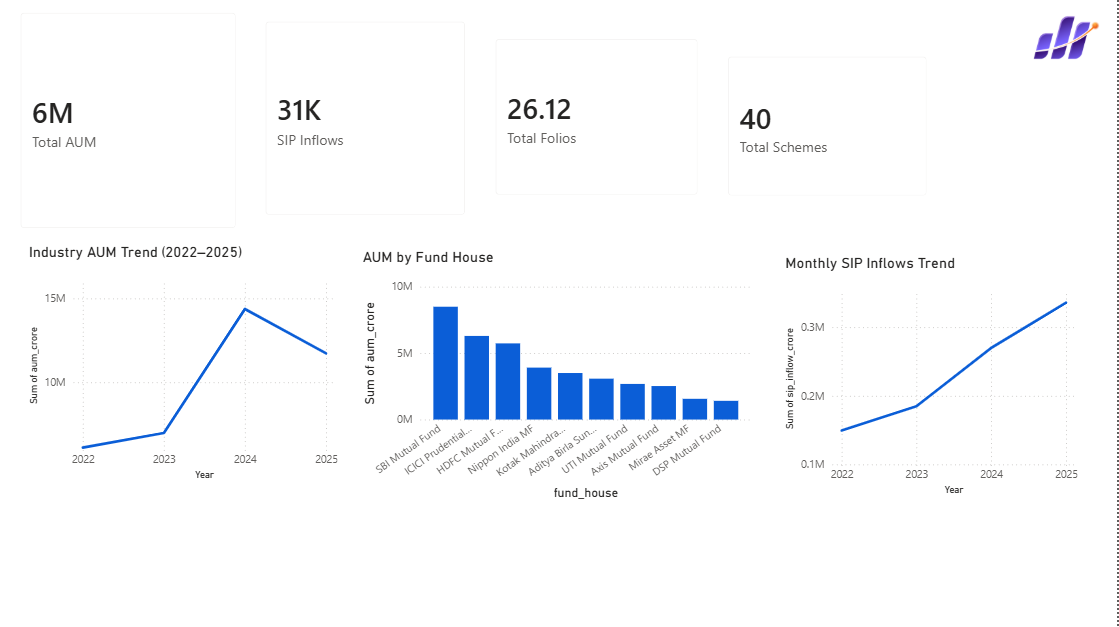

The dashboard page shown, as its layout file describes it:
{"tool":"powerbi","page":{"name":"Industry Overview","canvas":[1280,720],"ordinal":0},"visuals":[{"type":"cardVisual","fields":{"Data":["01_fund_master.Total AUM"]},"box":[10,0,280,280],"z":0},{"type":"cardVisual","fields":{"Data":["01_fund_master.SIP Inflows"]},"box":[289.8,9.8,262.9,255.6],"z":1000},{"type":"cardVisual","fields":{"Data":["01_fund_master.Total Folios"]},"box":[552.7,30.6,265.4,212.8],"z":2000},{"type":"cardVisual","fields":{"Data":["01_fund_master.Total Schemes"]},"box":[818.2,50,261.8,193.6],"z":3000},{"type":"lineChart","title":"Industry AUM Trend (2022–2025)","fields":{"Category":["03_aum_by_fund_house.date.Variation.Date Hierarchy.Year","03_aum_by_fund_house.date.Variation.Date Hierarchy.Quarter","03_aum_by_fund_house.date.Variation.Date Hierarchy.Month","03_aum_by_fund_house.date.Variation.Date Hierarchy.Day"],"Y":["Sum(03_aum_by_fund_house.aum_crore)"]},"box":[31.4,280,362.9,275.7],"z":4000},{"type":"clusteredColumnChart","title":"AUM by Fund House","fields":{"Y":["Sum(03_aum_by_fund_house.aum_crore)"],"Category":["03_aum_by_fund_house.fund_house"]},"box":[412.9,285.7,454.3,292.9],"z":5000},{"type":"lineChart","title":"Monthly SIP Inflows Trend","fields":{"Category":["04_monthly_sip_inflows.month.Variation.Date Hierarchy.Year","04_monthly_sip_inflows.month.Variation.Date Hierarchy.Quarter","04_monthly_sip_inflows.month.Variation.Date Hierarchy.Month","04_monthly_sip_inflows.month.Variation.Date Hierarchy.Day"],"Y":["Sum(04_monthly_sip_inflows.sip_inflow_crore)"]},"box":[895.7,292.9,344.3,280],"z":6000},{"type":"image","box":[1158.6,0,122.9,90],"z":6001}]}

Visuals, with their boxes in screenshot pixels (x1, y1, x2, y2), scaled from the page's 1280x720 canvas onto the 1119x627 screenshot:
cardVisual - 01_fund_master.Total AUM: detection(9, 0, 254, 244)
cardVisual - 01_fund_master.SIP Inflows: detection(253, 9, 483, 231)
cardVisual - 01_fund_master.Total Folios: detection(483, 27, 715, 212)
cardVisual - 01_fund_master.Total Schemes: detection(715, 44, 944, 212)
"Industry AUM Trend (2022–2025)" lineChart: detection(27, 244, 345, 484)
"AUM by Fund House" clusteredColumnChart: detection(361, 249, 758, 504)
"Monthly SIP Inflows Trend" lineChart: detection(783, 255, 1084, 499)
image: detection(1013, 0, 1118, 78)
